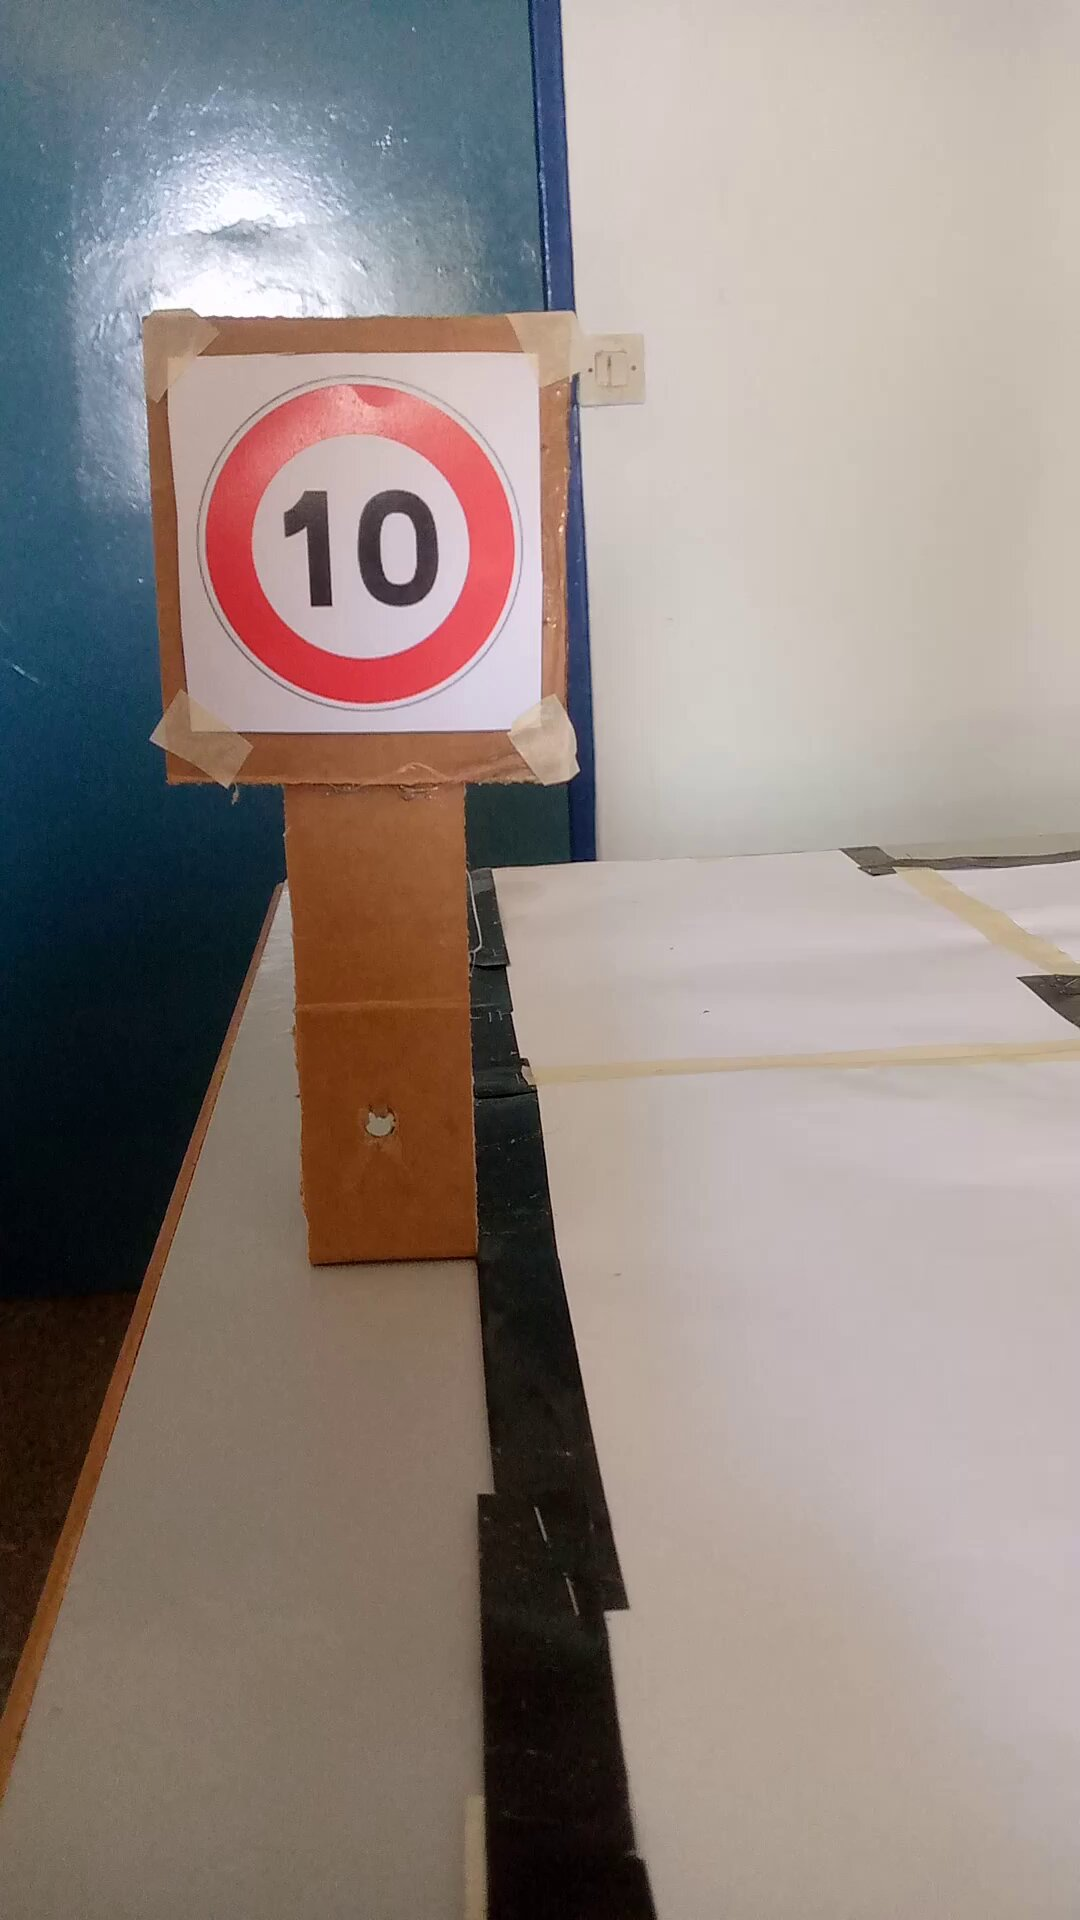panel011: (167, 345, 558, 742)
